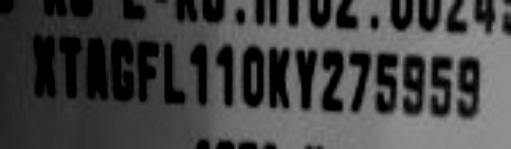letter: (82, 28, 110, 103), (133, 35, 161, 110), (159, 35, 187, 110), (108, 34, 136, 107), (263, 44, 294, 109), (32, 31, 60, 100), (210, 38, 238, 107), (184, 41, 212, 110), (400, 51, 428, 116), (345, 50, 373, 113), (238, 44, 265, 109), (294, 43, 319, 112), (429, 50, 454, 119), (56, 32, 81, 97), (320, 48, 345, 113), (374, 51, 399, 116), (457, 54, 482, 119)
